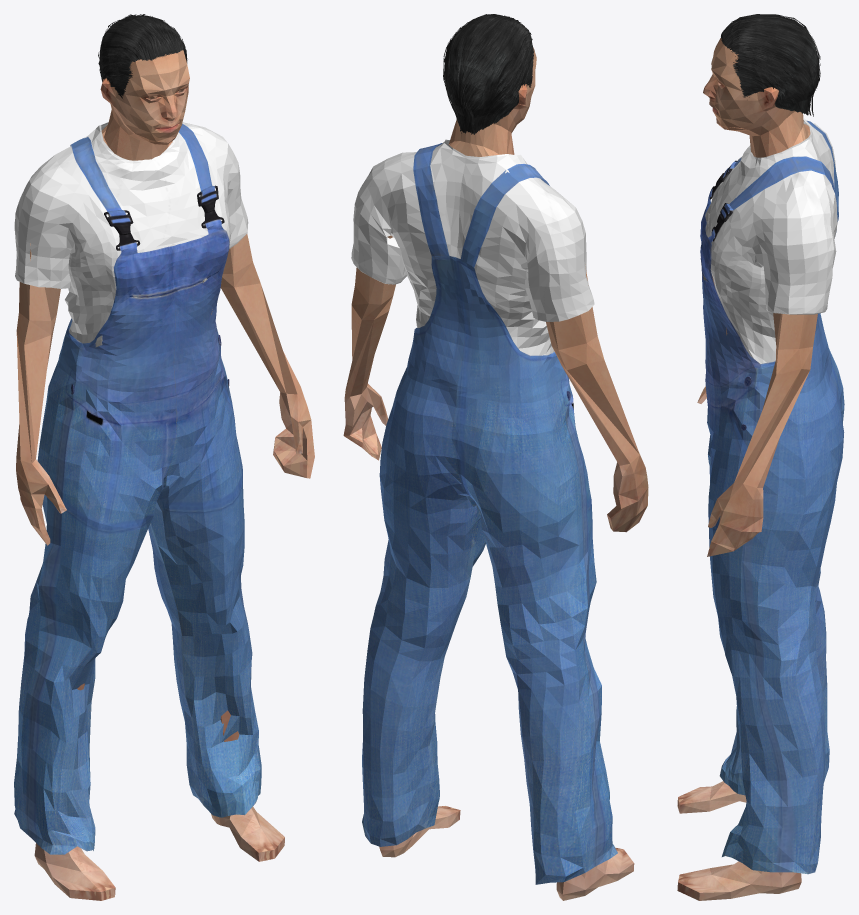
The model's file is human.obj.
The picture shows the model from 3 angles, left to right: view 1: azimuth 30°, elevation 25°; view 2: azimuth 150°, elevation 25°; view 3: azimuth 270°, elevation 25°; orthographic projection. The views are drawn at different scales.
Parts seen in each view (by area): view 1: male_worksuit01.obj, proxy741.obj, short04.obj; view 2: male_worksuit01.obj, proxy741.obj, short04.obj; view 3: male_worksuit01.obj, proxy741.obj, short04.obj.
Boxes of the visible parts, <box> form: male_worksuit01.obj: <box>14,122,261,854</box>; proxy741.obj: <box>16,50,314,900</box>; short04.obj: <box>98,14,187,98</box>; male_worksuit01.obj: <box>351,139,617,884</box>; proxy741.obj: <box>343,47,648,900</box>; short04.obj: <box>443,14,534,134</box>; male_worksuit01.obj: <box>700,118,844,874</box>; proxy741.obj: <box>677,38,817,900</box>; short04.obj: <box>721,14,820,116</box>.
Size of the model in its own units: 6.06 by 16.8 by 3.06.
3 materials, 3 textured.
